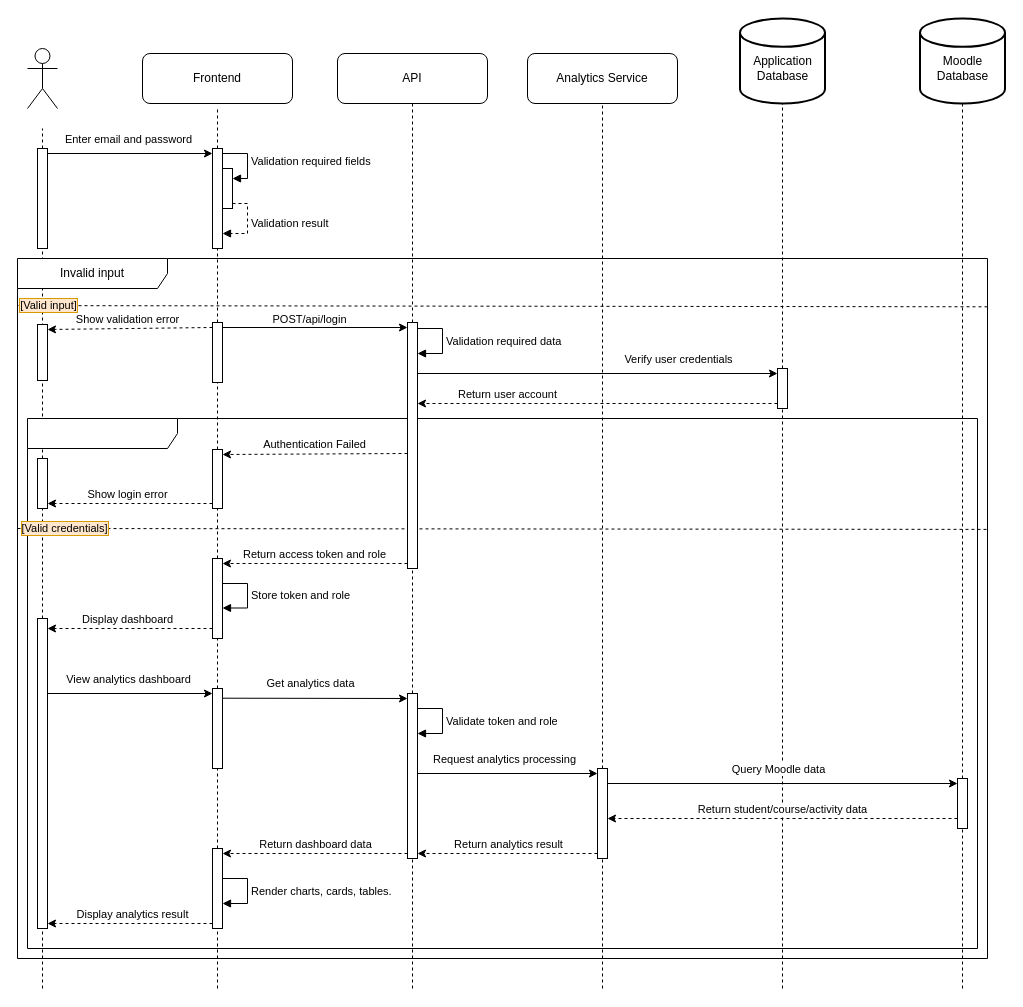
The diagram is 1023 pixels wide and 1007 high, and some of its shapes have lost their labels. Here are the shapes that lost their labels. From the top down, the box of each, then its label:
(26, 48, 58, 108): User
(26, 418, 978, 948): Invalid credentials
